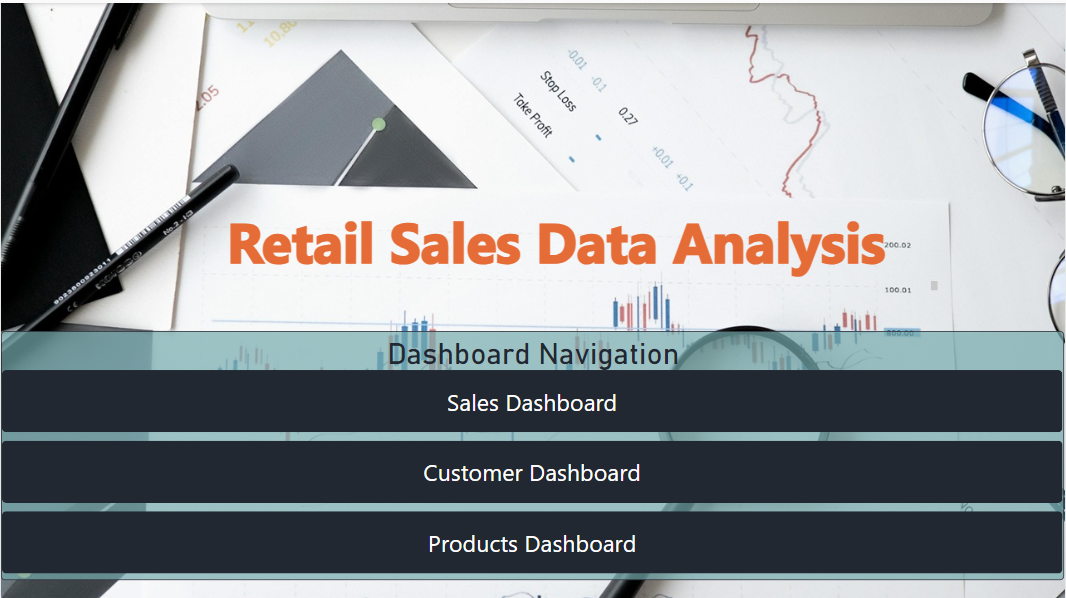

What the dashboard file says about the page in this screenshot:
{"tool":"powerbi","page":{"name":"Main Dashboard","canvas":[1280,720],"ordinal":0},"visuals":[{"type":"textbox","title":"Retail Sales Data Analysis","box":[205,240.4,927.6,110.4],"z":0},{"type":"pageNavigator","title":"Dashboard Navigation","box":[0,395.5,1279.7,299.6],"z":1}]}

Visuals, with their boxes in screenshot pixels (x1, y1, x2, y2), scaled from the page's 1280x720 canvas onto the 1066x598 screenshot:
"Retail Sales Data Analysis" textbox: Rect(171, 200, 943, 291)
"Dashboard Navigation" pageNavigator: Rect(0, 328, 1065, 577)
